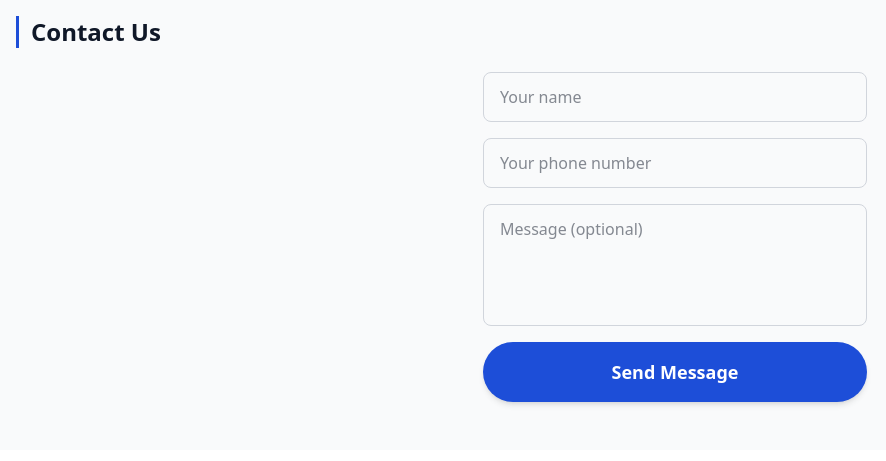
ContactForm › shows error message on failed submit
Type "John" into the field with placeholder "Your name" at (675, 97), box top-left (483, 72), bottom-right (867, 122)
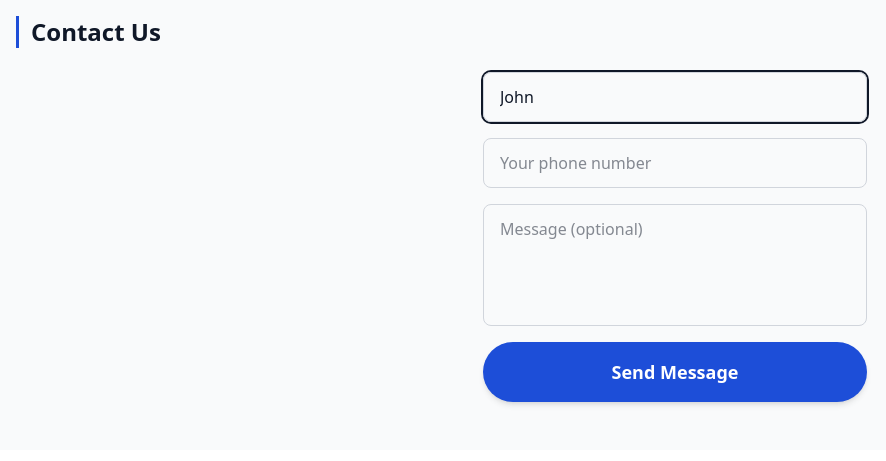
Type "555-1234" into the field with placeholder "Your phone number" at (675, 163), box top-left (483, 138), bottom-right (867, 188)
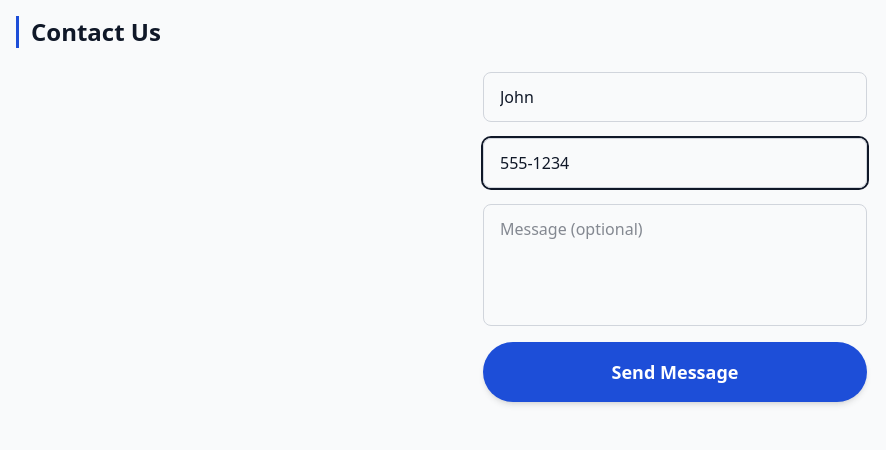
Type "Hello" into the text box with placeholder "Message (optional)" at (675, 265), box top-left (483, 204), bottom-right (867, 326)
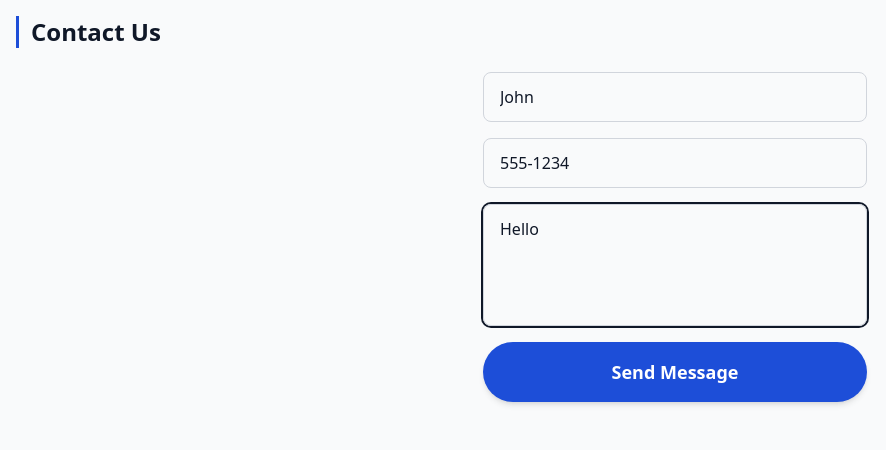
Click the button "Send Message" at (675, 372), box top-left (483, 342), bottom-right (867, 402)
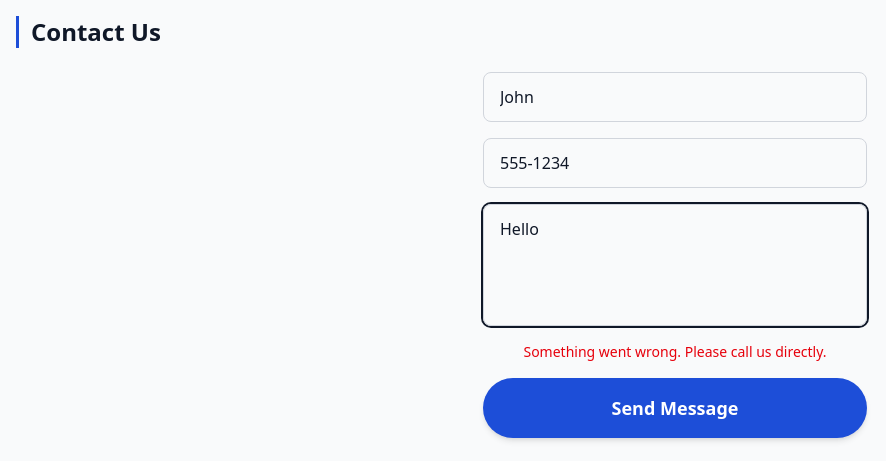
Check: the text "Something went wrong. Please call us directly." is shown, box top-left (524, 342), bottom-right (827, 361)
